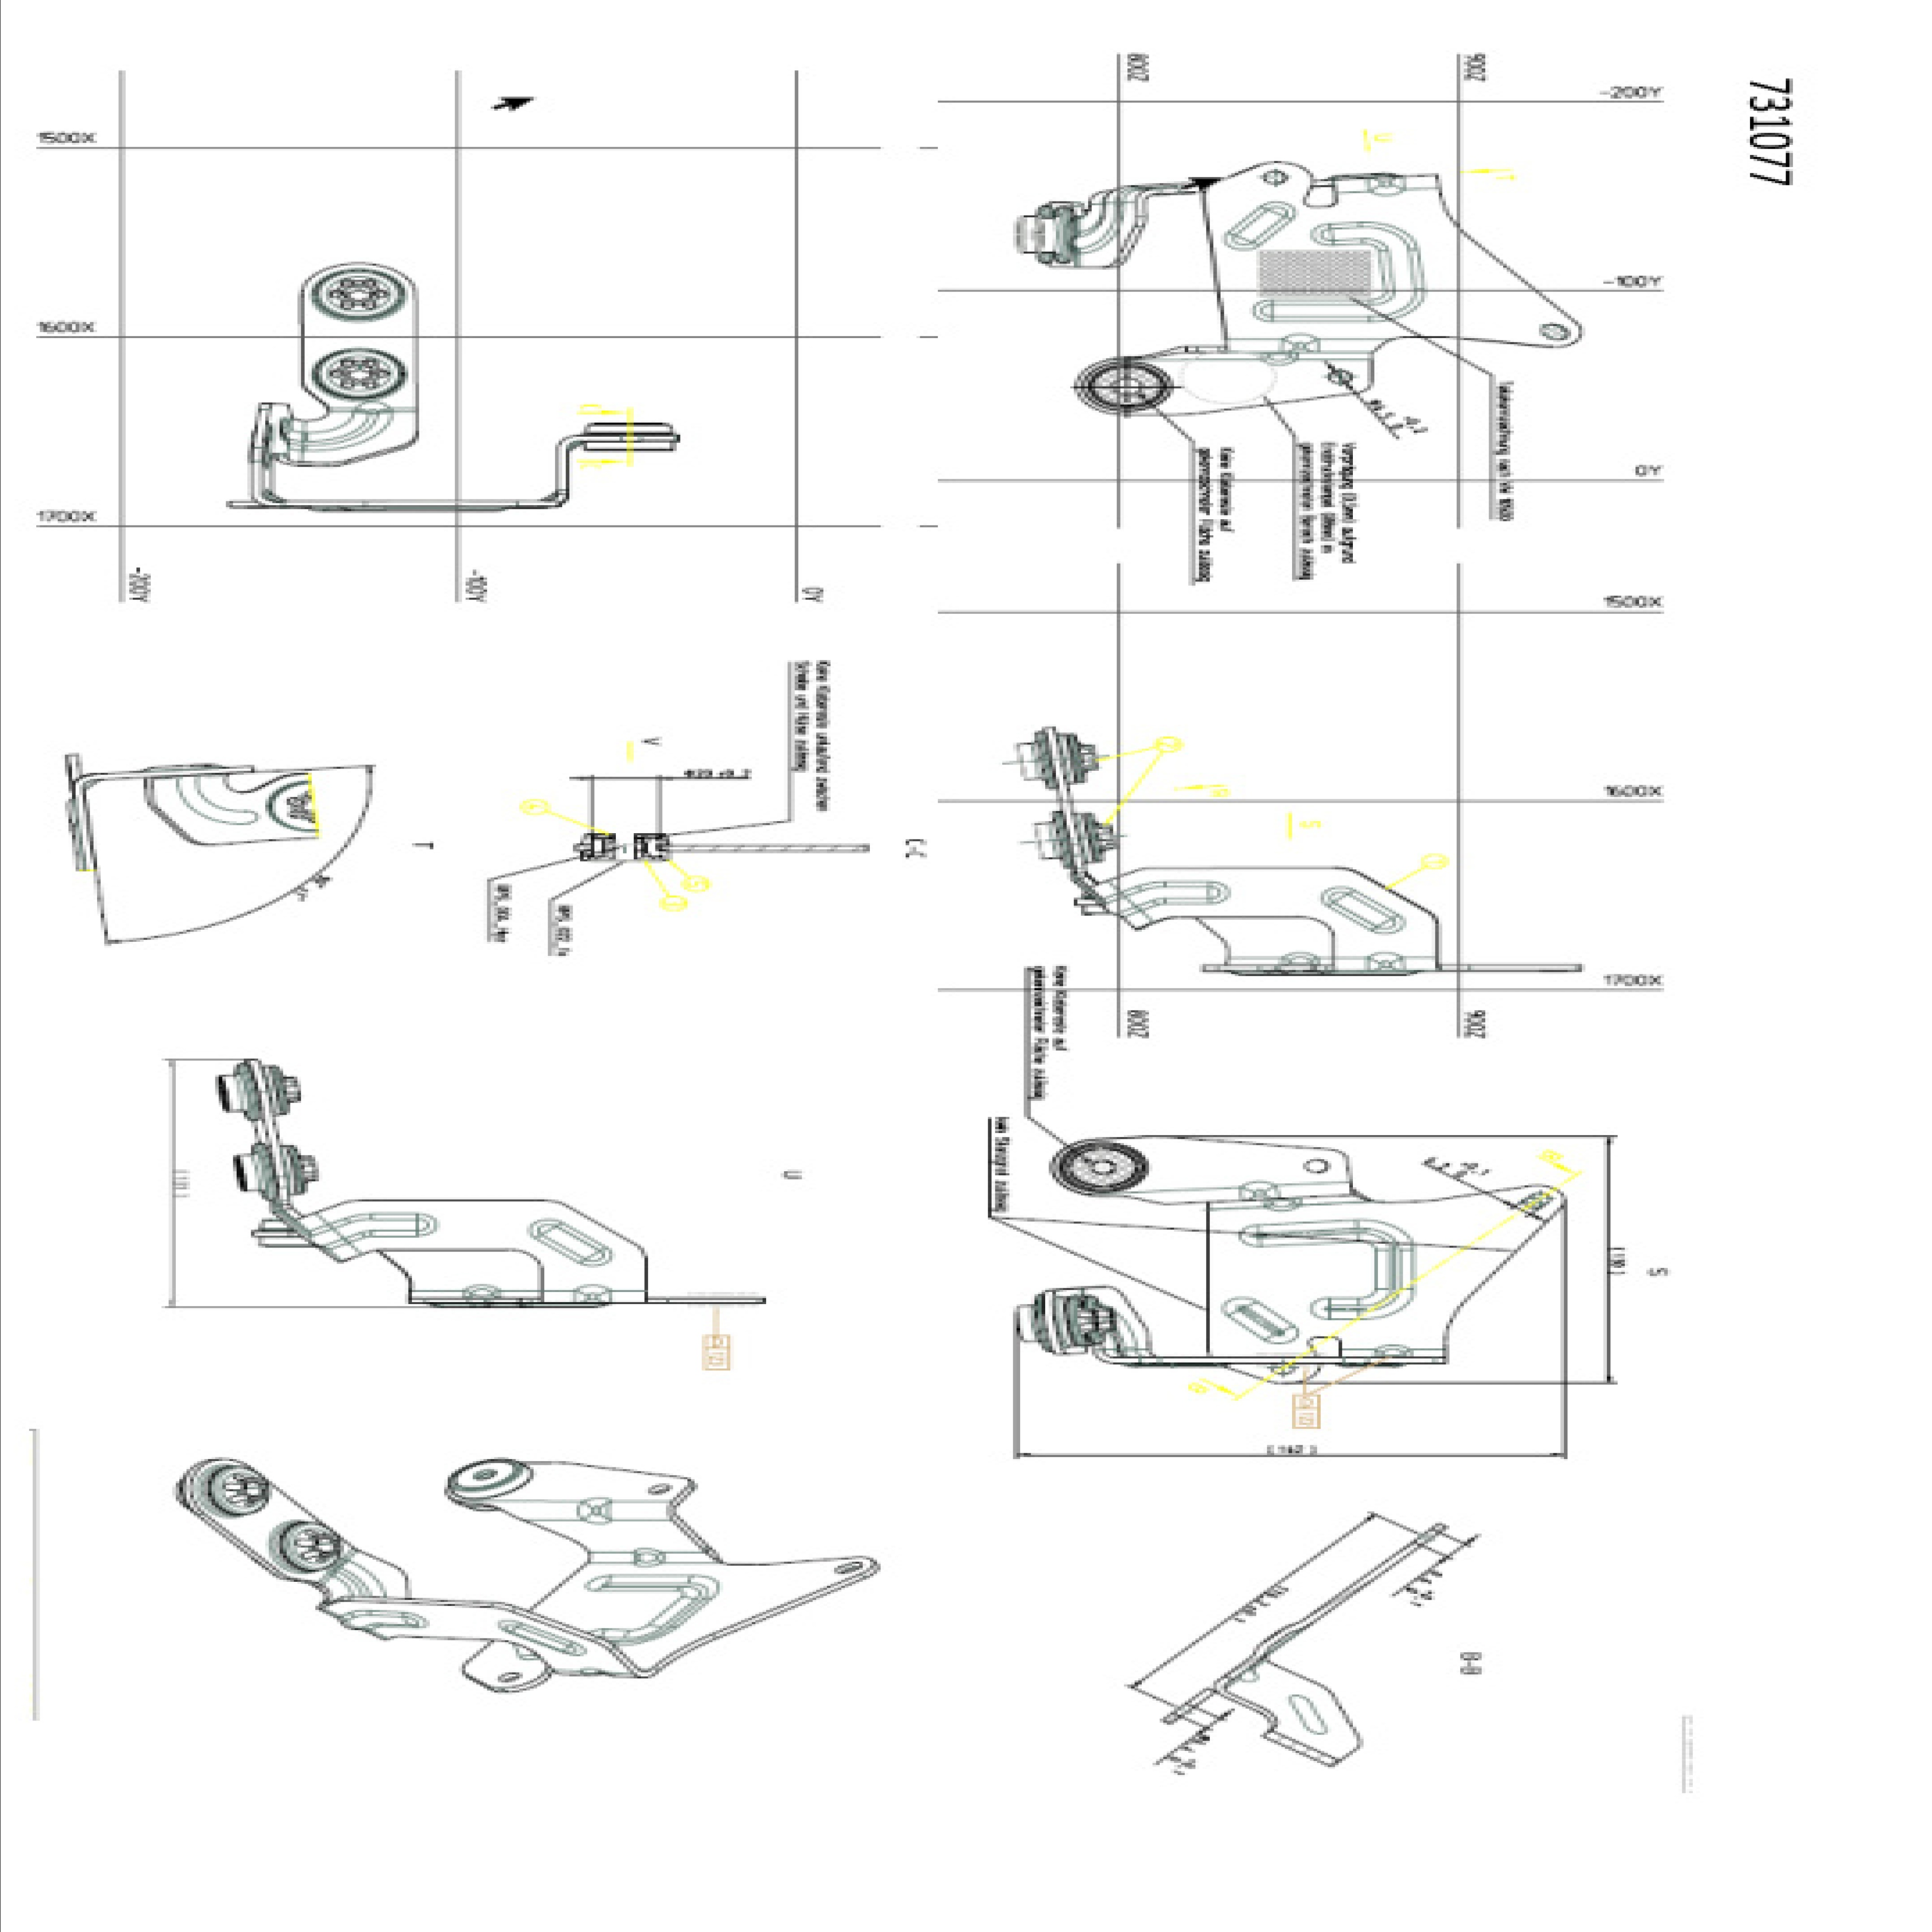Embossment: (1230, 191, 1451, 359), (1231, 1217, 1430, 1322), (269, 391, 400, 472), (310, 1196, 448, 1258), (518, 1205, 619, 1283), (1217, 184, 1306, 269), (1214, 1281, 1307, 1361), (1315, 876, 1415, 945), (1100, 876, 1233, 918), (492, 1614, 593, 1661)
InnerContour: (1541, 326, 1571, 345), (1261, 168, 1290, 188), (1323, 368, 1352, 387), (1304, 1157, 1329, 1175), (1272, 1364, 1297, 1378), (495, 1670, 524, 1681), (835, 1562, 862, 1573), (648, 1483, 669, 1495)
Reinforcement: (1276, 948, 1325, 977), (1364, 950, 1410, 975), (577, 1497, 616, 1525), (1364, 173, 1410, 196), (1237, 1180, 1283, 1200), (1279, 334, 1320, 356), (570, 1283, 614, 1302), (633, 1546, 667, 1569), (462, 1281, 502, 1299), (1375, 1343, 1412, 1359), (1265, 349, 1297, 366), (1263, 1200, 1304, 1212)
